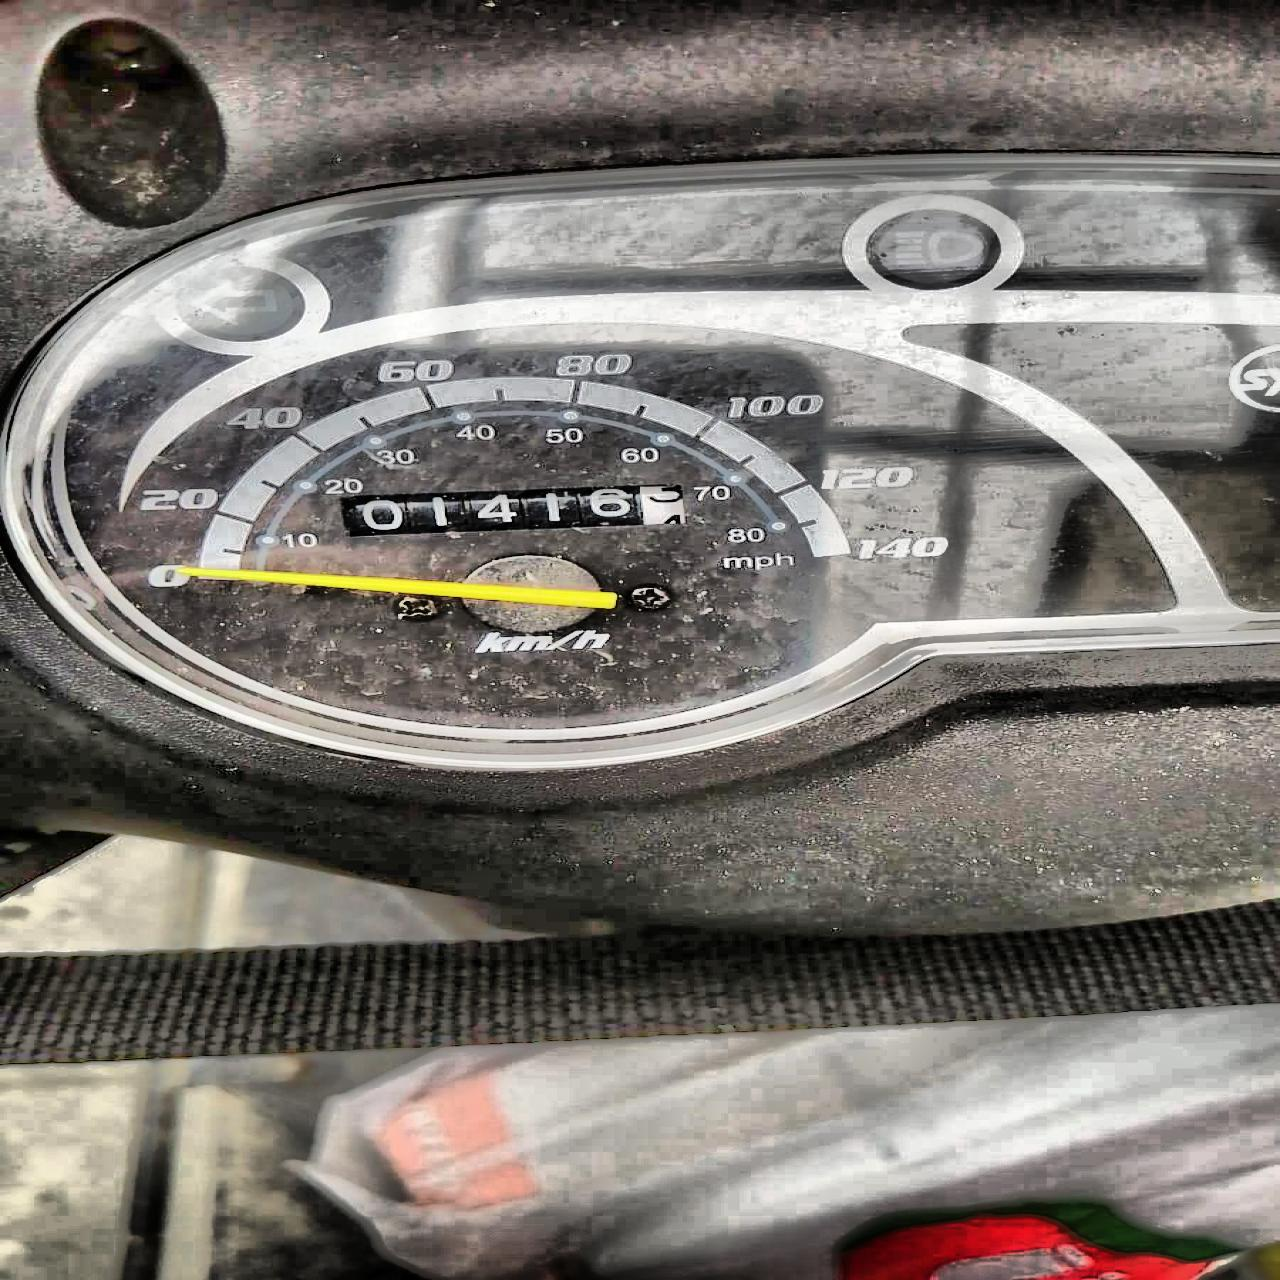0: (355, 499, 404, 531), (342, 476, 366, 494)
1: (536, 486, 566, 529), (424, 493, 456, 530)
3: (639, 481, 687, 509)
4: (474, 491, 522, 526)
6: (584, 486, 633, 522)
odometer: (339, 480, 691, 542)
